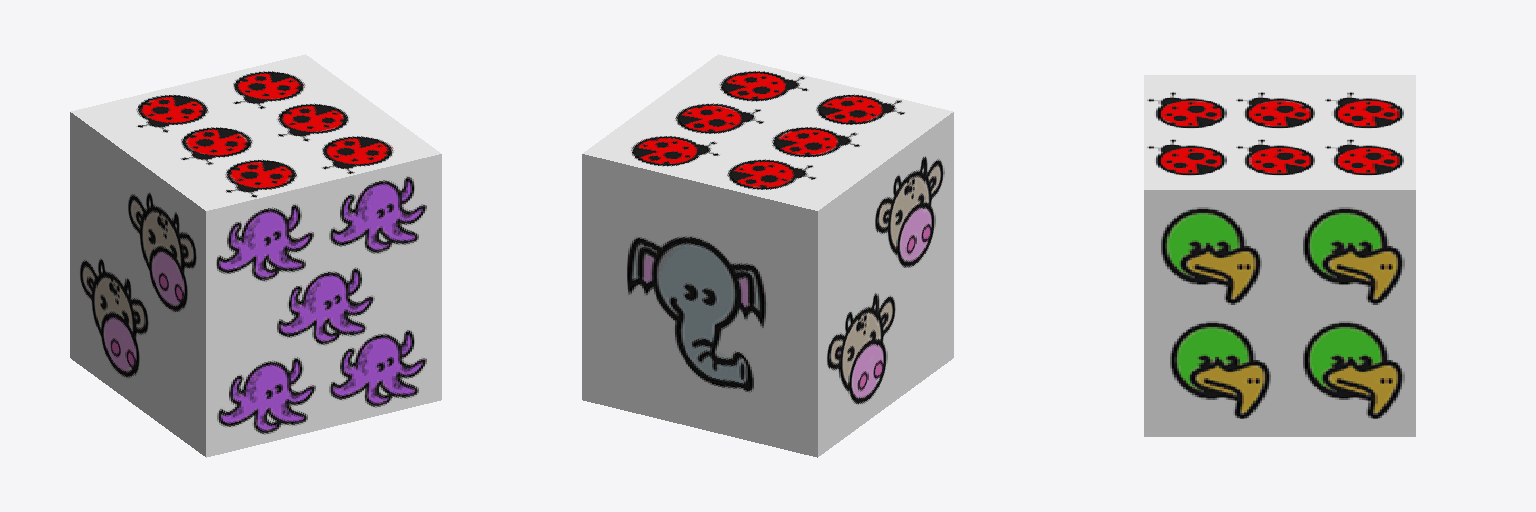
The picture shows the model from 3 angles: view 1: azimuth 30°, elevation 25°; view 2: azimuth 150°, elevation 25°; view 3: azimuth 270°, elevation 25°; orthographic projection.
Parts seen in each view (by area): view 1: Cubo_Dado_6_Lados; view 2: Cubo_Dado_6_Lados; view 3: Cubo_Dado_6_Lados.
Boxes of the visible parts, box(x1,y1,x2,y2) form: Cubo_Dado_6_Lados: box(70, 54, 441, 457); Cubo_Dado_6_Lados: box(582, 54, 953, 457); Cubo_Dado_6_Lados: box(1144, 75, 1415, 436).
Size of the model in its own units: 26.11 by 26.11 by 26.11.
Materials: 1 (1 with a texture image).